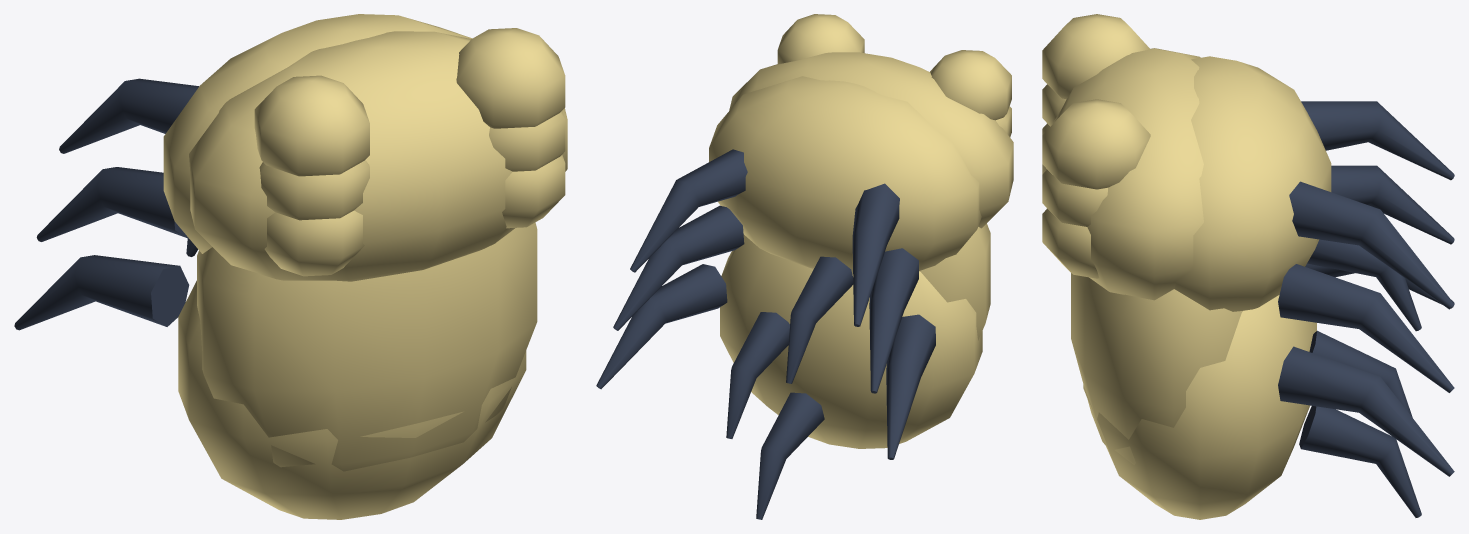
The model's file is gorehulk_c_body.obj.
The picture shows the model from 3 angles, left to right: view 1: azimuth 30°, elevation 25°; view 2: azimuth 150°, elevation 25°; view 3: azimuth 270°, elevation 25°; orthographic projection. The views are drawn at different scales.
Parts seen in each view (by area): view 1: source_component_000, source_component_001, source_component_002, source_component_003, source_component_015, source_component_018, source_component_006, source_component_005, source_component_013, source_component_004, source_component_014, source_component_016 (+1 smaller); view 2: source_component_003, source_component_002, source_component_001, source_component_009, source_component_008, source_component_007, source_component_006, source_component_005, source_component_004, source_component_015, source_component_000, source_component_012 (+3 smaller); view 3: source_component_003, source_component_002, source_component_001, source_component_000, source_component_018, source_component_009, source_component_008, source_component_007, source_component_015, source_component_004, source_component_012, source_component_005 (+6 smaller).
Boxes of the visible parts, <box> form: source_component_000: <box>197,222,537,471</box>; source_component_001: <box>189,31,567,281</box>; source_component_002: <box>178,280,526,519</box>; source_component_003: <box>163,14,472,253</box>; source_component_015: <box>254,75,369,176</box>; source_component_018: <box>456,28,565,128</box>; source_component_006: <box>14,255,189,330</box>; source_component_005: <box>36,167,188,241</box>; source_component_013: <box>264,210,364,276</box>; source_component_004: <box>59,78,198,153</box>; source_component_014: <box>259,160,369,220</box>; source_component_016: <box>502,155,565,228</box>; source_component_003: <box>709,76,981,274</box>; source_component_002: <box>720,234,982,448</box>; source_component_001: <box>729,52,1013,228</box>; source_component_009: <box>596,264,727,389</box>; source_component_008: <box>613,205,744,330</box>; source_component_007: <box>630,149,747,272</box>; source_component_006: <box>886,314,935,459</box>; source_component_005: <box>869,248,918,393</box>; source_component_004: <box>852,183,899,326</box>; source_component_015: <box>930,50,1011,120</box>; source_component_000: <box>919,223,990,340</box>; source_component_012: <box>756,392,824,519</box>; source_component_003: <box>1174,56,1331,311</box>; source_component_002: <box>1083,295,1316,519</box>; source_component_001: <box>1042,48,1203,300</box>; source_component_000: <box>1071,273,1242,464</box>; source_component_018: <box>1042,99,1150,189</box>; source_component_009: <box>1278,346,1454,476</box>; source_component_008: <box>1278,264,1454,392</box>; source_component_007: <box>1289,181,1454,309</box>; source_component_015: <box>1042,14,1150,99</box>; source_component_004: <box>1301,101,1454,180</box>; source_component_012: <box>1299,405,1421,517</box>; source_component_005: <box>1331,165,1454,244</box>.
Size of the model in its own units: 0.8471 by 1.05 by 0.8596.
